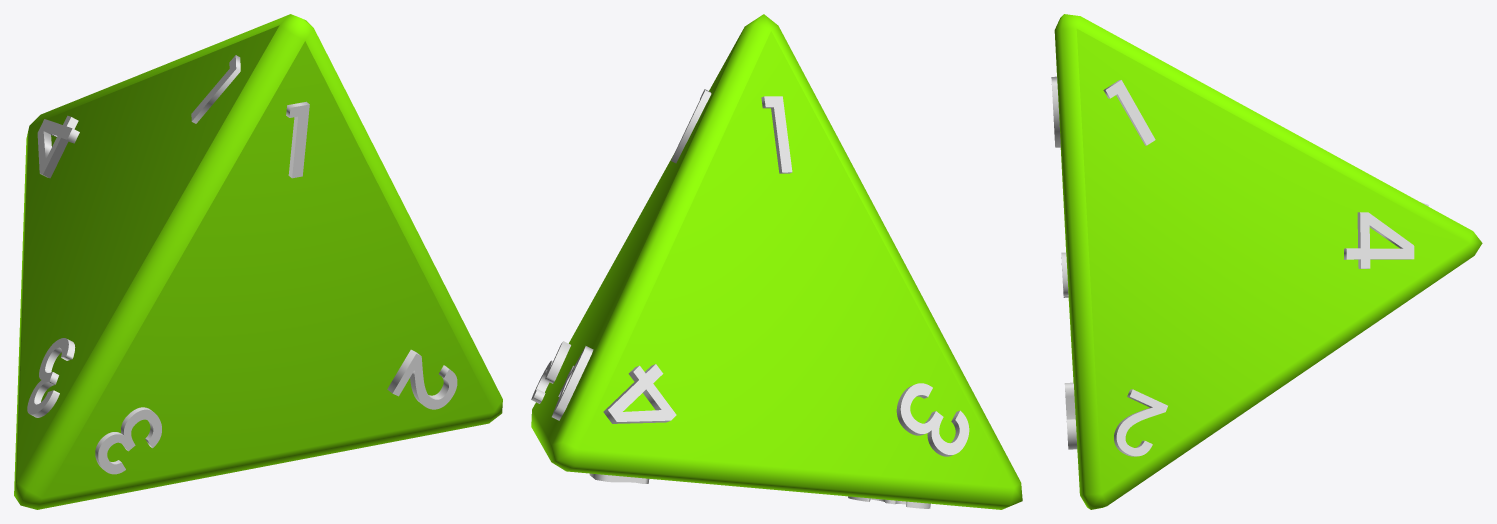
3 renders of one model, left to right at view 1: azimuth 30°, elevation 25°; view 2: azimuth 150°, elevation 25°; view 3: azimuth 270°, elevation 25°, orthographic. The views are drawn at different scales.
Parts seen in each view (by area): view 1: d4, d4_numbers; view 2: d4, d4_numbers; view 3: d4, d4_numbers.
Part boxes in pixels (x1,y1,x2,y2): d4: [14, 14, 502, 509]; d4_numbers: [27, 55, 457, 474]; d4: [531, 14, 1022, 509]; d4_numbers: [531, 89, 969, 508]; d4: [1054, 14, 1482, 509]; d4_numbers: [1051, 76, 1428, 456].
Bounding box in the file's own units: 0.5971 × 0.5421 × 0.5194.
